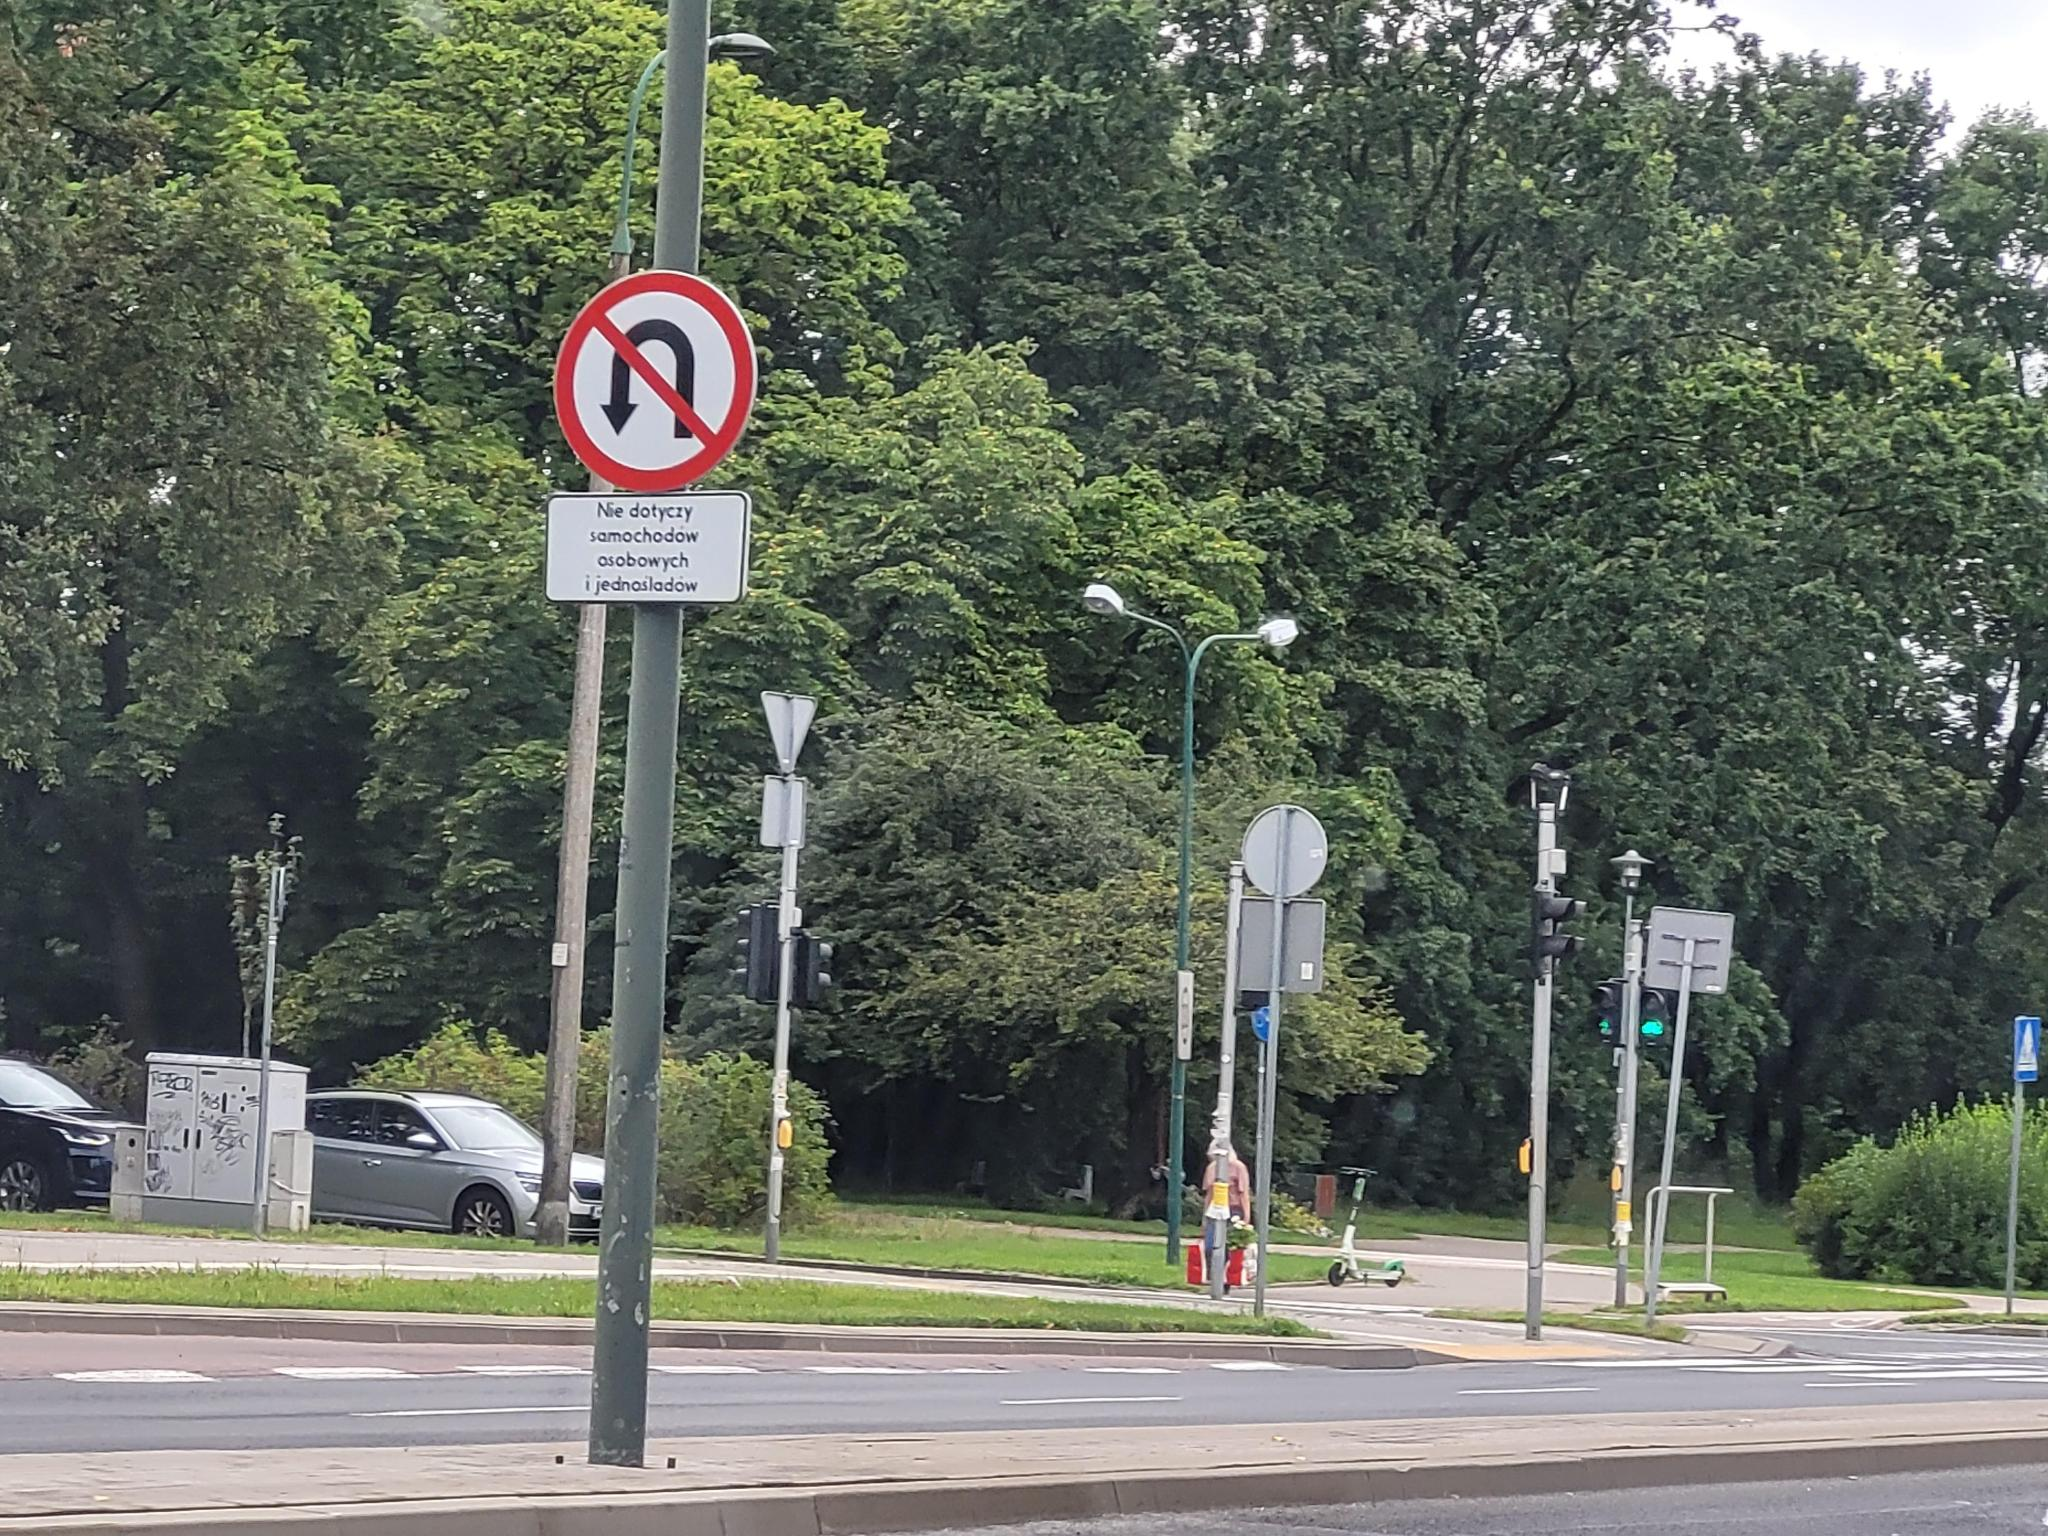information: (2016, 1016, 2038, 1083)
prohibitory: (552, 269, 760, 492)
